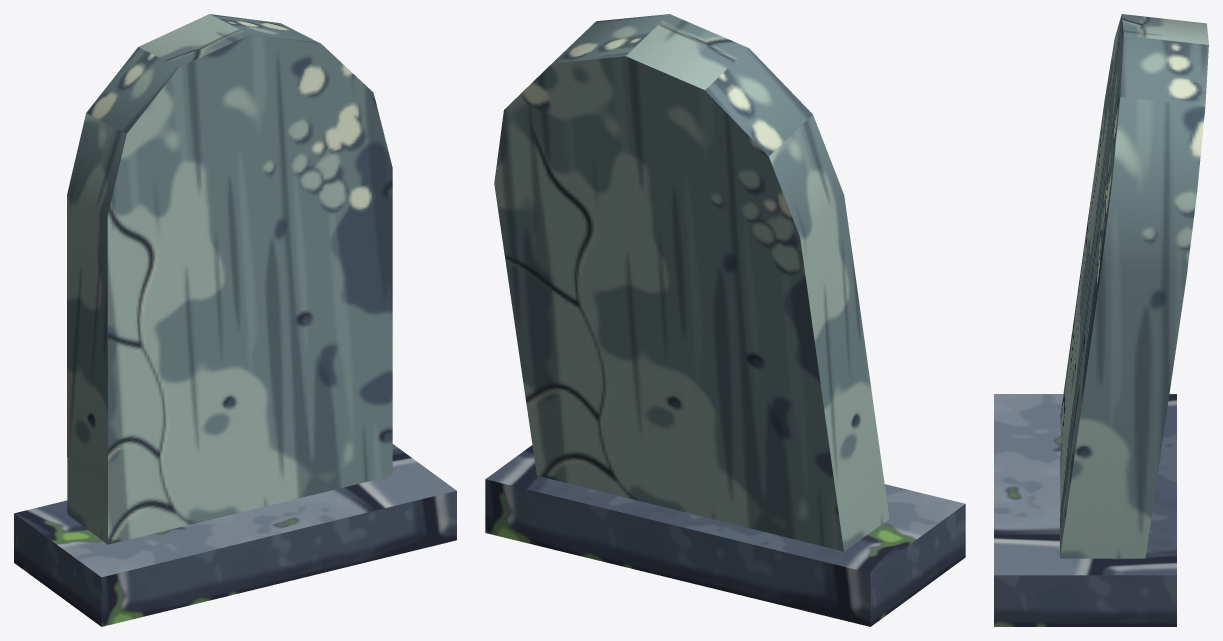
The model's file is tombstone_small_a.glb.
3 views of the same model, side by side, from view 1: azimuth 30°, elevation 25°; view 2: azimuth 150°, elevation 25°; view 3: azimuth 270°, elevation 25° (orthographic). The views are drawn at different scales.
Visible parts, largest first — view 1: Prop; view 2: Prop; view 3: Prop.
Boxes of the visible parts, x1=… form: Prop: x1=14, y1=14, x2=456, y2=626; Prop: x1=485, y1=14, x2=965, y2=626; Prop: x1=994, y1=14, x2=1208, y2=626.
Size of the model in its own units: 0.75 by 0.9993 by 0.376.
2 materials, 2 textured.
